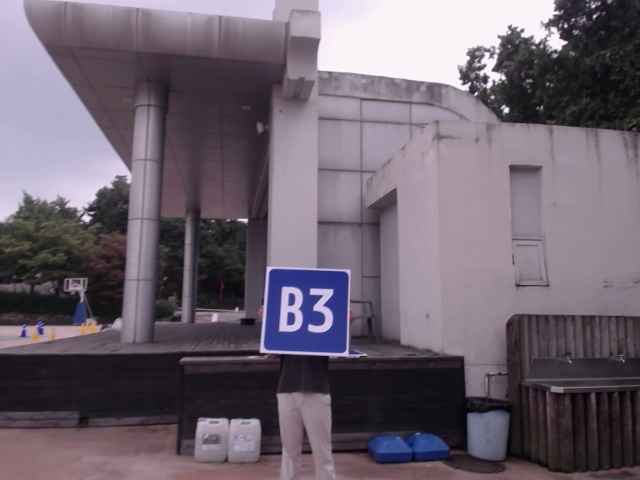delivery_b3: (264, 268, 350, 356)
